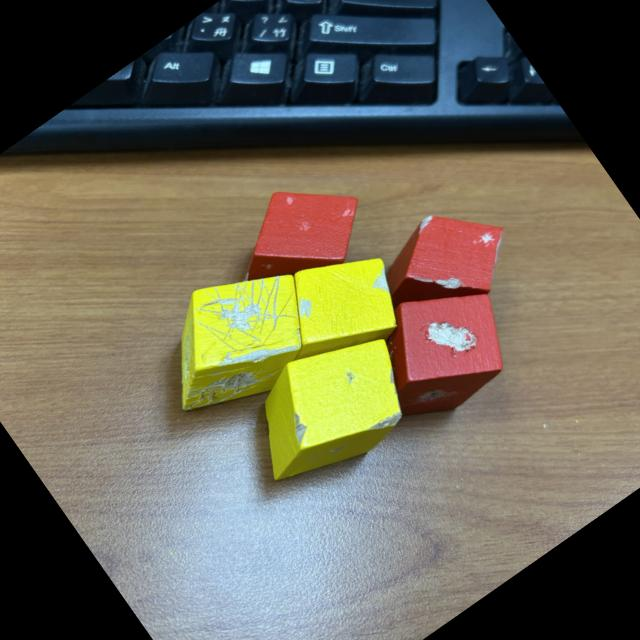broken: (221, 307, 433, 506), (130, 238, 340, 438), (346, 257, 532, 436), (210, 154, 384, 318), (251, 224, 422, 390), (358, 182, 530, 344)
